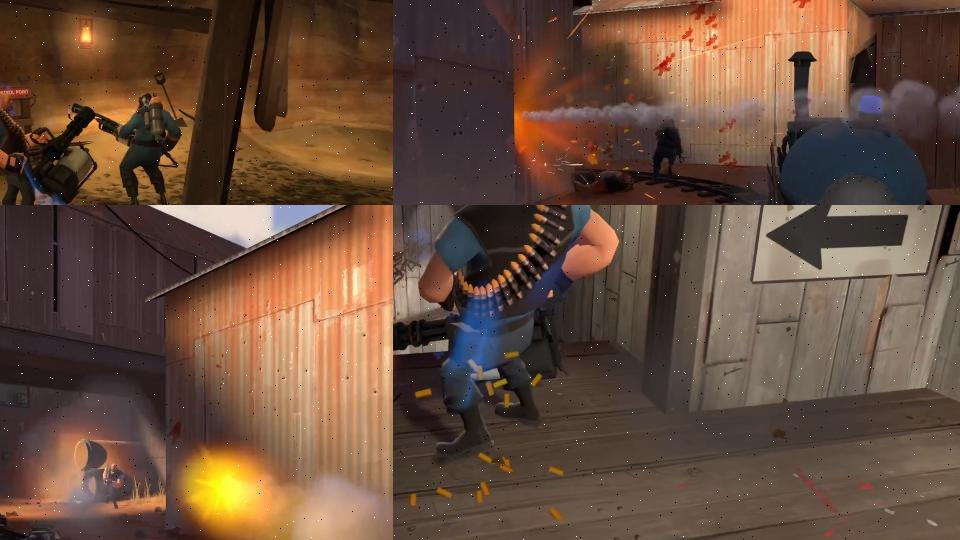Enemy: (393, 205, 622, 459), (72, 91, 181, 205), (0, 92, 97, 205), (652, 117, 685, 177), (574, 167, 635, 193), (99, 462, 129, 512)
